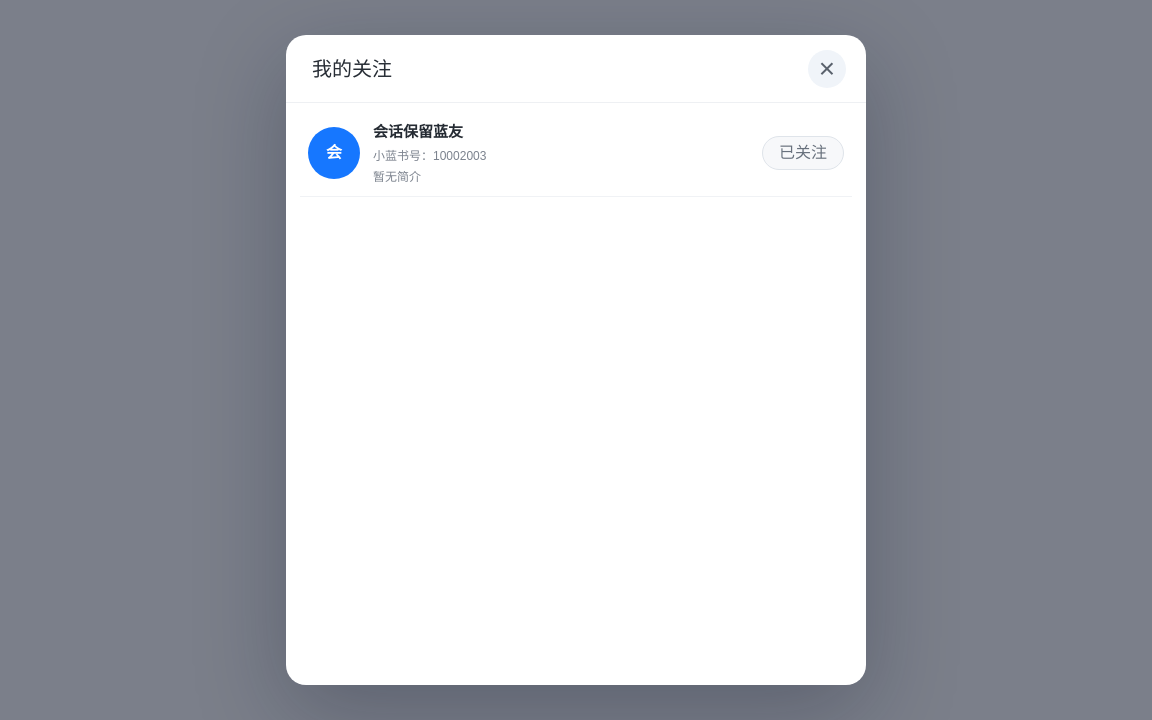
Test: FollowingDialog › keeps the row and starts login recovery when unfollowing loses its session
Expected: the text "会话保留蓝友" is shown, left=373, top=123, right=463, bottom=140
Click the button "已关注" at [803, 153], box left=762, top=136, right=844, bottom=170
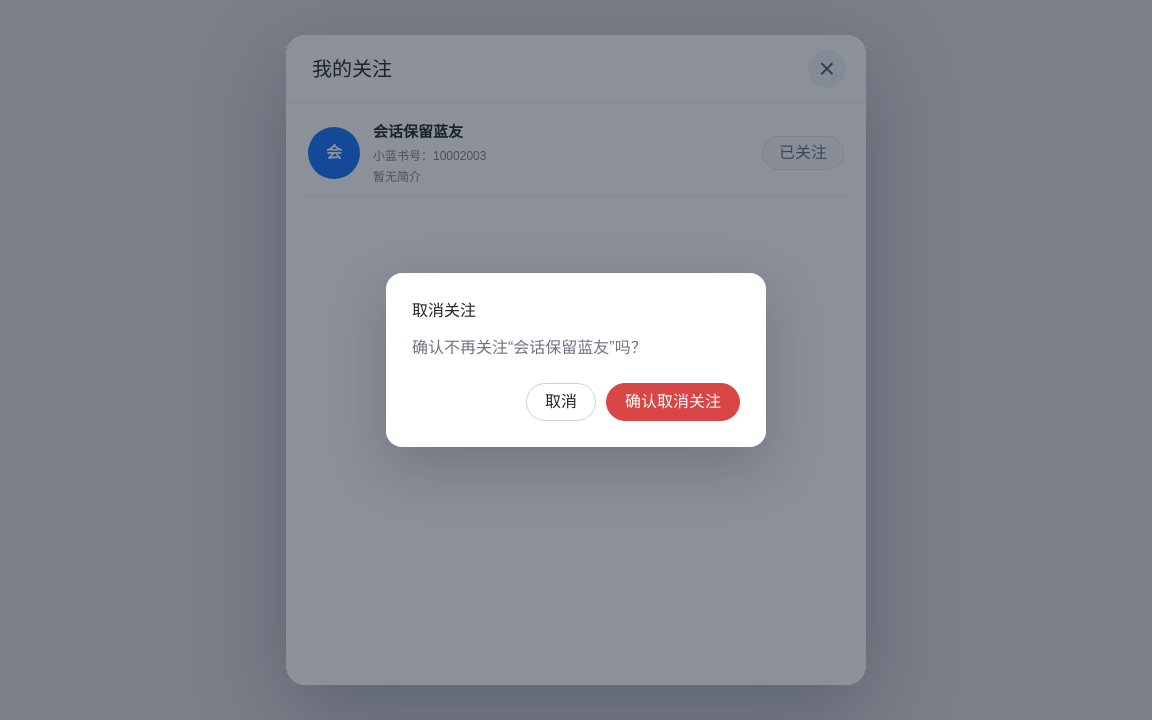
Click the button "确认取消关注" at [673, 402], box left=606, top=383, right=740, bottom=421
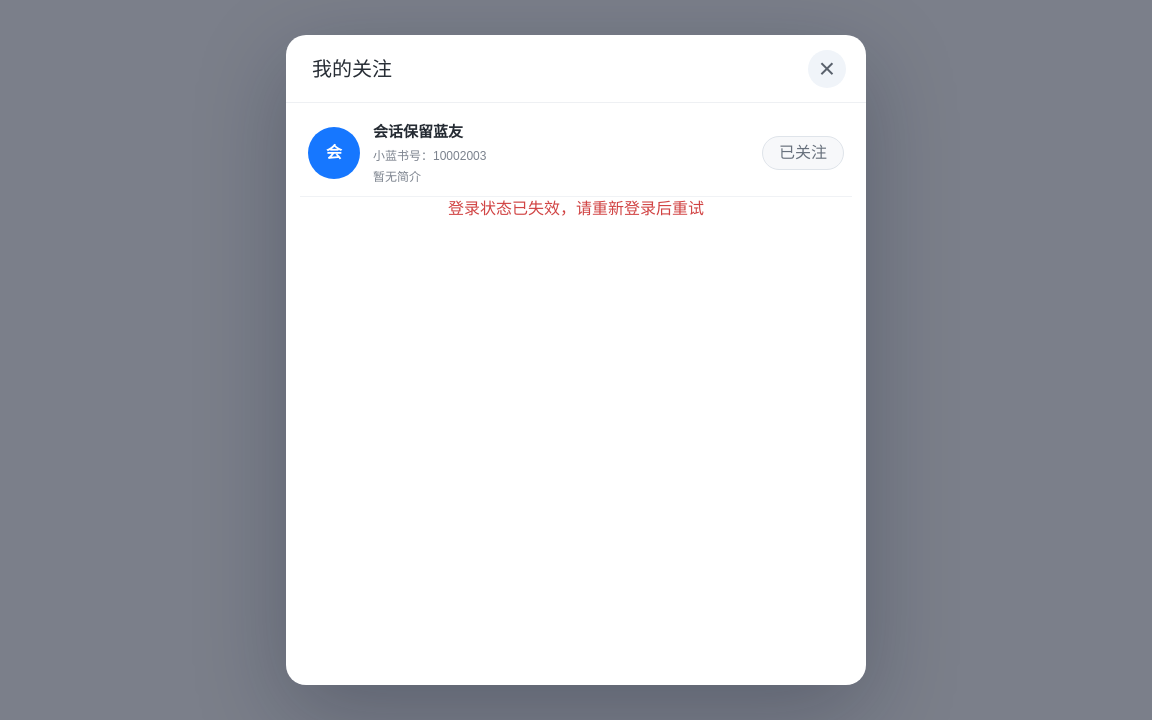
Expected: the text "会话保留蓝友" is shown, left=373, top=123, right=463, bottom=140
Expected: the text "登录状态已失效，请重新登录后重试" is shown, left=448, top=200, right=704, bottom=216
